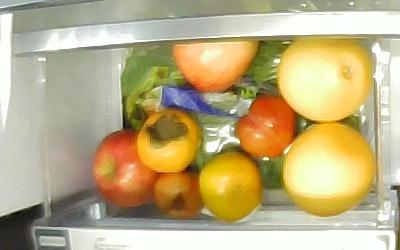apple: (92, 130, 159, 209), (172, 40, 259, 92)
grapefruit: (282, 121, 375, 217), (276, 39, 371, 121)
persimmon: (198, 151, 262, 222), (136, 109, 200, 173)
prune: (235, 94, 295, 158), (153, 171, 202, 221)
